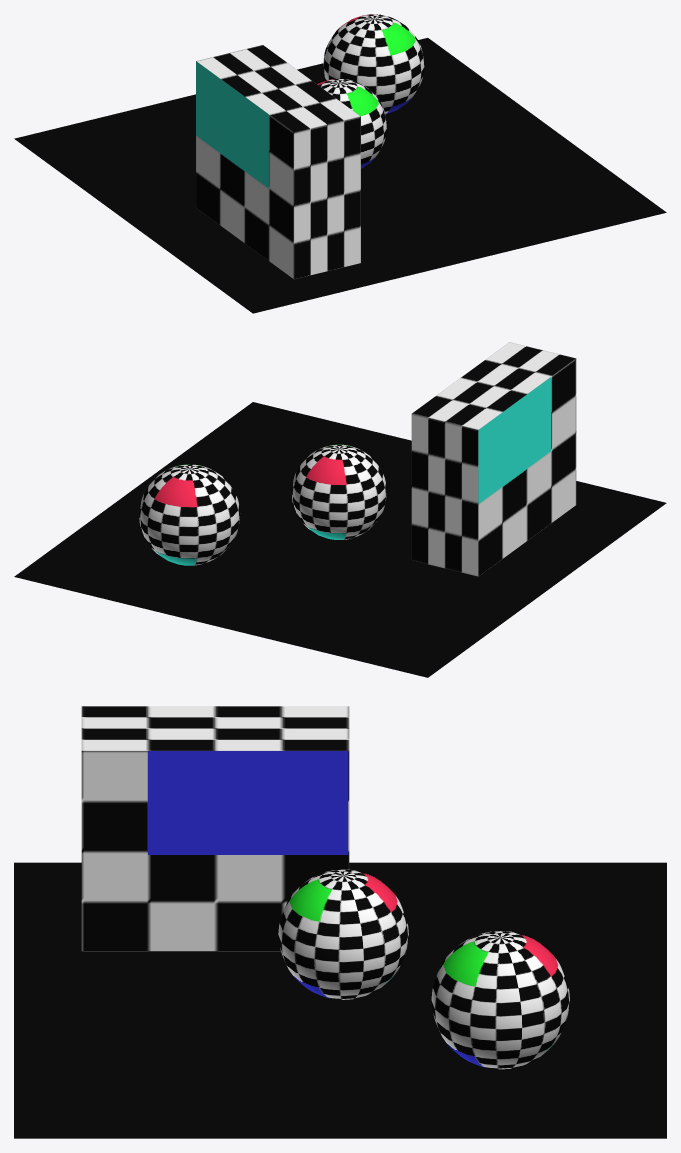
File: ref3.fbx
3 renders of one model, top to bottom at view 1: azimuth 30°, elevation 25°; view 2: azimuth 150°, elevation 25°; view 3: azimuth 270°, elevation 25°, orthographic. The views are drawn at different scales.
Visible parts, largest first — view 1: polySurface6; view 2: polySurface6; view 3: polySurface6.
Boxes of the visible parts, x1=… form: polySurface6: x1=14, y1=14, x2=666, y2=313; polySurface6: x1=14, y1=342, x2=666, y2=677; polySurface6: x1=14, y1=706, x2=666, y2=1138.
Size of the model in its own units: 100 by 34.01 by 100.
2 materials, 1 textured.
